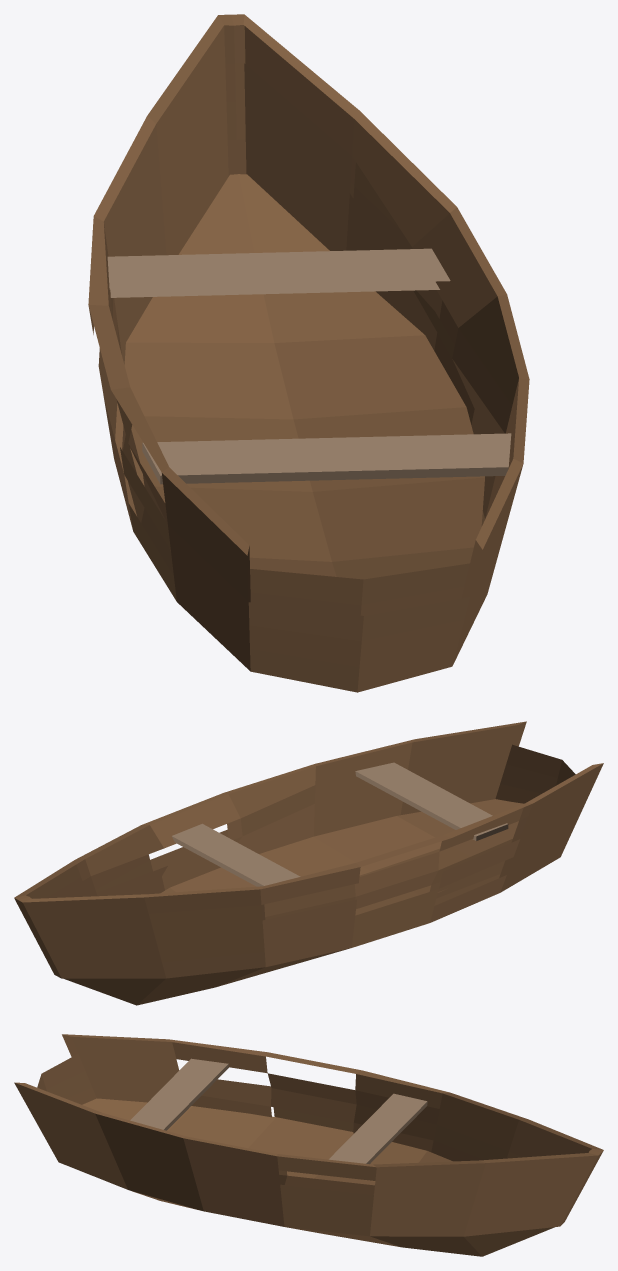
Rendered from 05 Boat_Broken_2.FBX.
3 renders of one model, top to bottom at view 1: azimuth 30°, elevation 25°; view 2: azimuth 150°, elevation 25°; view 3: azimuth 270°, elevation 25°, orthographic. The views are drawn at different scales.
Parts seen in each view (by area): view 1: Cube008; view 2: Cube008; view 3: Cube008.
Part boxes in pixels (x1,y1,x2,y2): Cube008: [88, 14, 529, 692]; Cube008: [14, 721, 603, 1005]; Cube008: [14, 1034, 603, 1256].
Size of the model in its own units: 532 by 255 by 1014.
